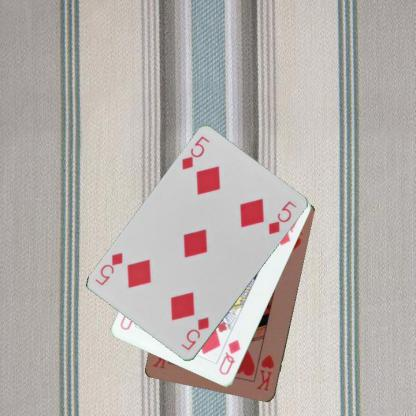5d: (178, 314, 211, 352), (179, 134, 210, 172)
Kh: (254, 352, 276, 392)
Qd: (216, 337, 242, 377)
